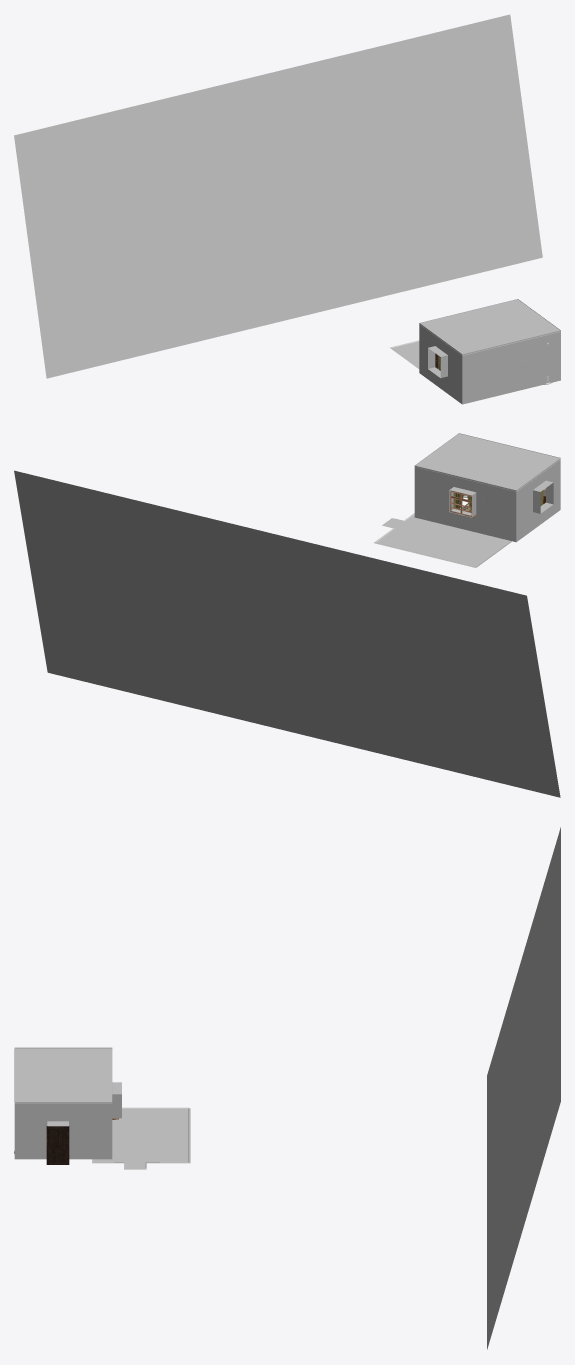
Rendered from AbayHouse.fbx.
The picture shows the model from 3 angles, top to bottom: view 1: azimuth 30°, elevation 25°; view 2: azimuth 150°, elevation 25°; view 3: azimuth 270°, elevation 25°; orthographic projection. The views are drawn at different scales.
Visible parts, largest first — view 1: bground, Plane, Plane.005; view 2: bground, Plane, Plane.005, Plane.004; view 3: bground, Plane, Plane.005, Plane.004, Wood door.
Part boxes in pixels (x1=…): bground: x1=14, y1=14, x2=542, y2=378; Plane: x1=419, y1=299, x2=560, y2=404; Plane.005: x1=420, y1=299, x2=560, y2=355; bground: x1=14, y1=470, x2=560, y2=797; Plane: x1=414, y1=433, x2=560, y2=542; Plane.005: x1=415, y1=433, x2=560, y2=491; Plane.004: x1=374, y1=513, x2=511, y2=567; bground: x1=487, y1=827, x2=560, y2=1349; Plane: x1=14, y1=1047, x2=121, y2=1159; Plane.005: x1=14, y1=1048, x2=112, y2=1103; Plane.004: x1=92, y1=1107, x2=190, y2=1169; Wood door: x1=46, y1=1126, x2=69, y2=1164.
Bounding box in the file's own units: 3637 × 1537 × 3058.
